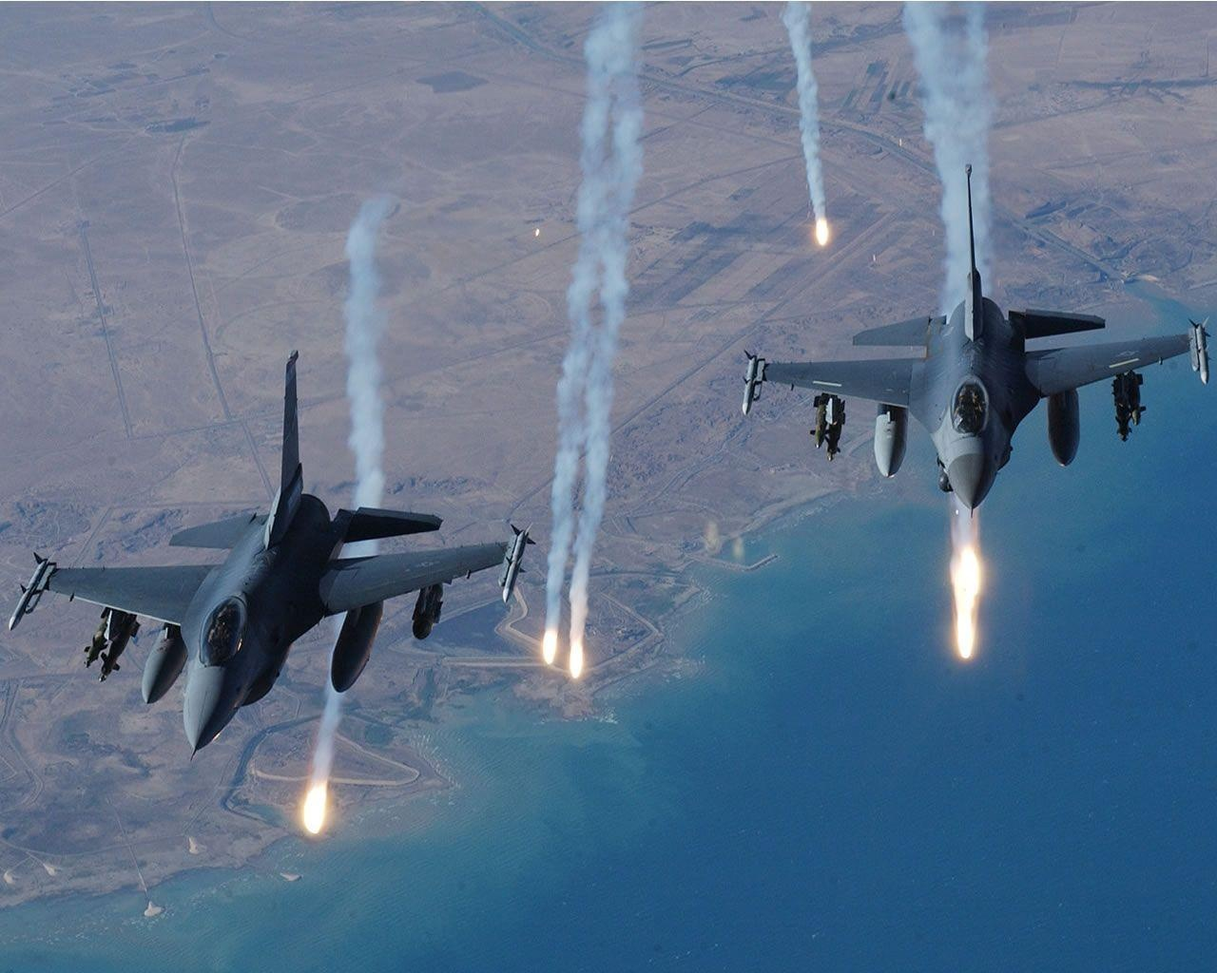aircraft: (6, 351, 531, 837), (737, 204, 1212, 663)
